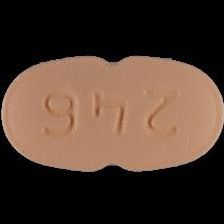61786-715: (0, 0, 224, 224)
